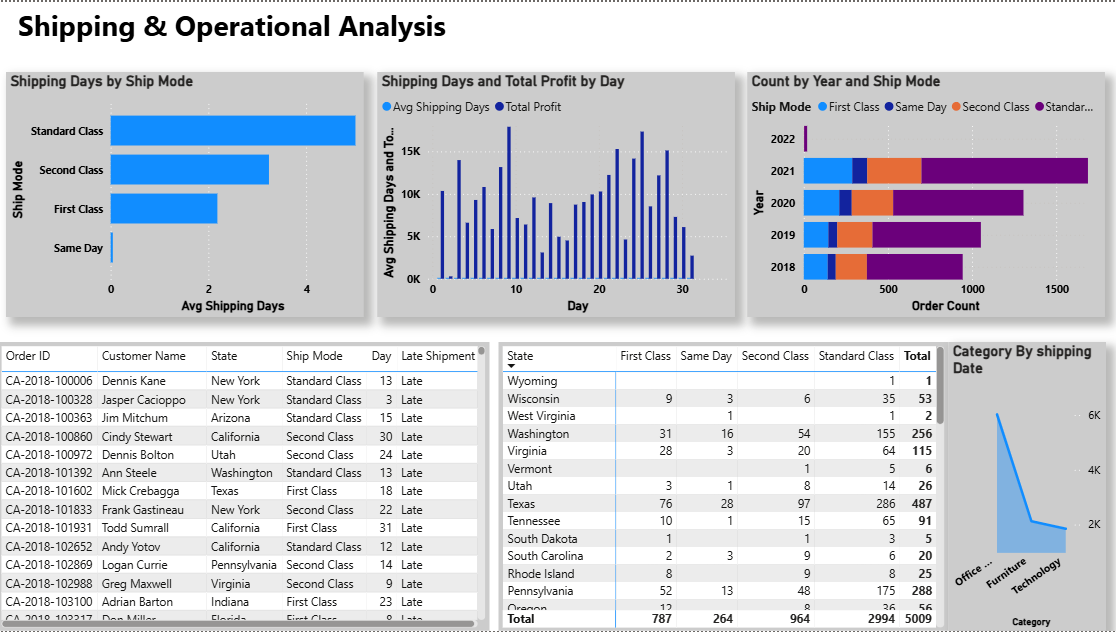

The page's visual inventory and layout, read from the dashboard file:
{"tool":"powerbi","page":{"name":"Page 5","canvas":[1280,720],"ordinal":4},"visuals":[{"type":"barChart","fields":{"Y":["measure_.Avg Shipping Days"],"Category":["E-Commerce.Ship Mode"]},"box":[0,51.4,408.6,280],"z":0},{"type":"clusteredColumnChart","fields":{"Category":["E-Commerce.Ship Date.Variation.Date Hierarchy.Day"],"Y":["measure_.Avg Shipping Days","measure_.Total Profit"]},"box":[434.3,51.4,365.7,280],"z":1000},{"type":"barChart","fields":{"Category":["E-Commerce.Ship Date.Variation.Date Hierarchy.Year","E-Commerce.Ship Date.Variation.Date Hierarchy.Month"],"Series":["E-Commerce.Ship Mode"],"Y":["measure_.Order Count"]},"box":[827.1,51.4,452.9,280],"z":2000},{"type":"tableEx","fields":{"Values":["E-Commerce.Order ID","E-Commerce.Customer Name","E-Commerce.State","E-Commerce.Ship Mode","E-Commerce.Ship Date.Variation.Date Hierarchy.Day","E-Commerce.Late Shipment"]},"box":[81.4,344.3,572.9,375.7],"z":3000},{"type":"pivotTable","fields":{"Rows":["E-Commerce.State"],"Columns":["E-Commerce.Ship Mode"],"Values":["measure_.Order Count"]},"box":[714.3,344.3,514.3,375.7],"z":4000},{"type":"textbox","box":[11.4,0,397.1,44.3],"z":5000}]}

Visuals, with their boxes in screenshot pixels (x1, y1, x2, y2), scaled from the page's 1280x720 canvas onto the 1116x632 screenshot:
barChart - measure_.Avg Shipping Days x E-Commerce.Ship Mode: select_region(0, 45, 356, 291)
clusteredColumnChart - E-Commerce.Ship Date.Variation.Date Hierarchy.Day x measure_.Avg Shipping Days: select_region(379, 45, 698, 291)
barChart - E-Commerce.Ship Date.Variation.Date Hierarchy.Year x E-Commerce.Ship Date.Variation.Date Hierarchy.Month: select_region(721, 45, 1115, 291)
tableEx - E-Commerce.Order ID x E-Commerce.Customer Name: select_region(71, 302, 570, 631)
pivotTable - E-Commerce.State x E-Commerce.Ship Mode: select_region(623, 302, 1071, 631)
textbox: select_region(10, 0, 356, 39)
